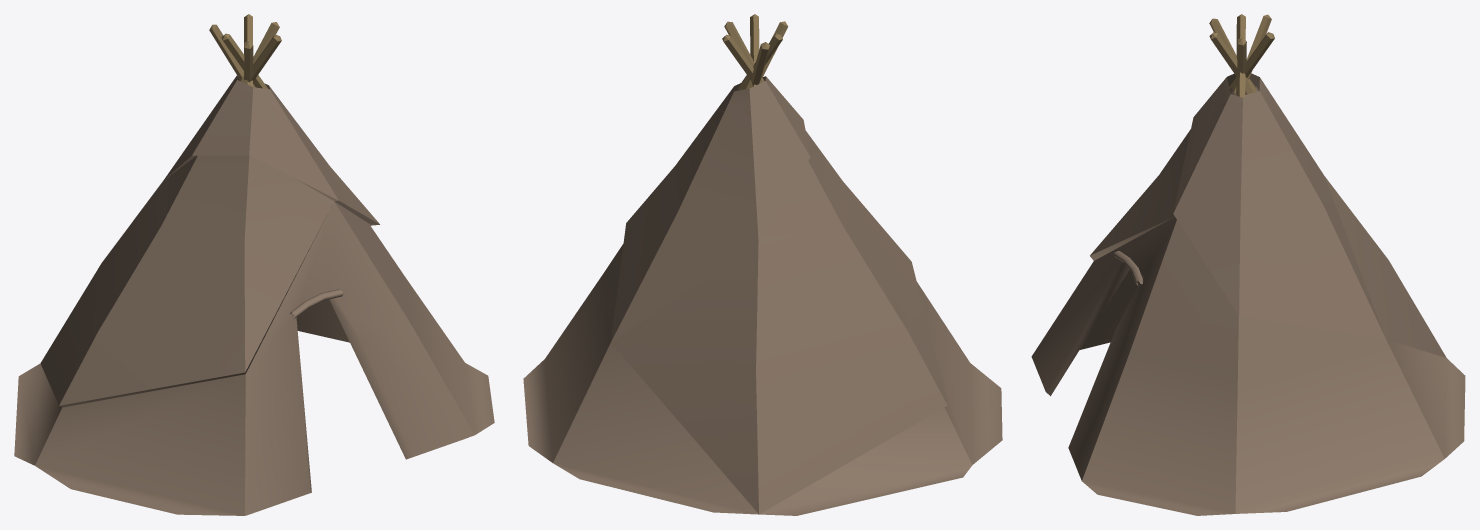
Rendered from arctic_tent.fbx.
The picture shows the model from 3 angles, left to right: view 1: azimuth 30°, elevation 25°; view 2: azimuth 150°, elevation 25°; view 3: azimuth 270°, elevation 25°; orthographic projection.
Parts seen in each view (by area): view 1: arctic_tent, arctic_tentpoles; view 2: arctic_tent, arctic_tentpoles; view 3: arctic_tent, arctic_tentpoles.
Boxes of the visible parts, box(x1,y1,x2,y2) form: arctic_tent: box(14, 75, 494, 515); arctic_tentpoles: box(209, 14, 281, 88); arctic_tent: box(523, 76, 1002, 515); arctic_tentpoles: box(722, 14, 788, 90); arctic_tent: box(1031, 73, 1465, 515); arctic_tentpoles: box(1209, 14, 1274, 97).
Bounding box in the file's own units: 3.85 × 3.24 × 3.3.
